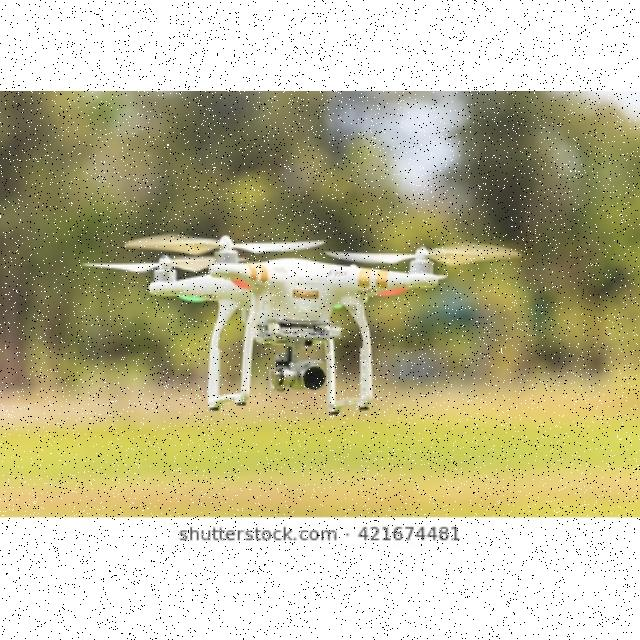Drones: (132, 229, 464, 411)
